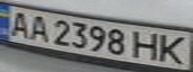2: (48, 16, 72, 47)
3: (66, 20, 90, 51)
8: (106, 26, 130, 56)
9: (87, 23, 109, 53)
A: (3, 8, 33, 38), (24, 12, 51, 43)
H: (130, 29, 163, 62)
K: (154, 33, 190, 65)
